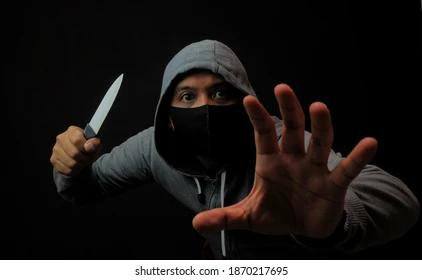Knife: (50, 39, 419, 259), (49, 125, 103, 178), (83, 74, 125, 141)
